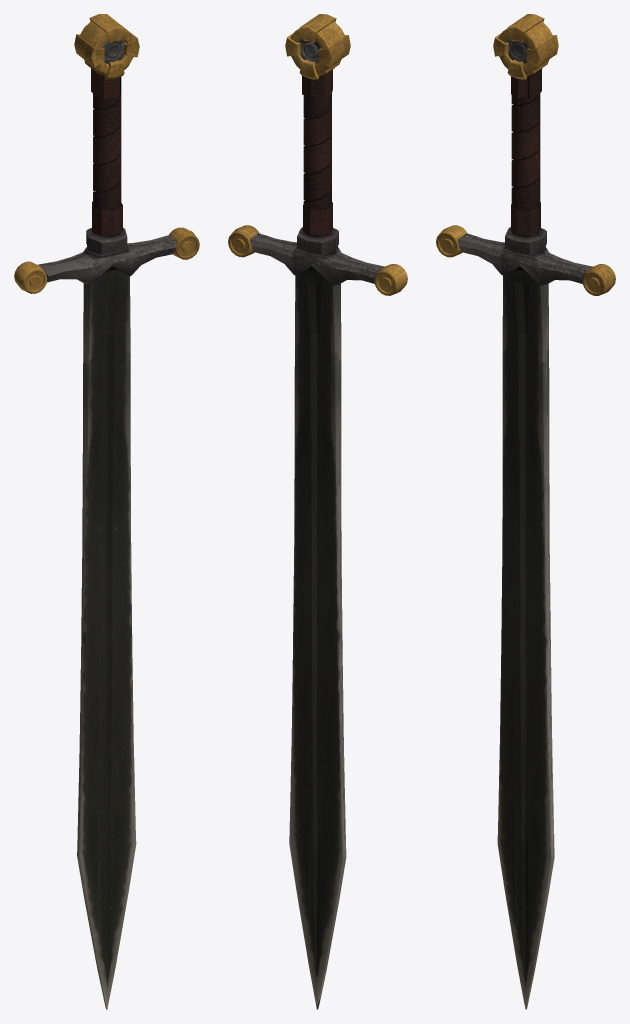
The model's file is sword_old.FBX.
The picture shows the model from 3 angles, left to right: view 1: azimuth 30°, elevation 25°; view 2: azimuth 150°, elevation 25°; view 3: azimuth 330°, elevation 25°; orthographic projection.
Parts seen in each view (by area): view 1: sword_blade; view 2: sword_blade; view 3: sword_blade.
Part boxes in pixels (x1,y1,x2,y2): sword_blade: (14,14,199,1009); sword_blade: (228,14,407,1009); sword_blade: (436,14,615,1009).
Bounding box in the file's own units: 9.93 × 53.5 × 2.
4 materials, 4 textured.
